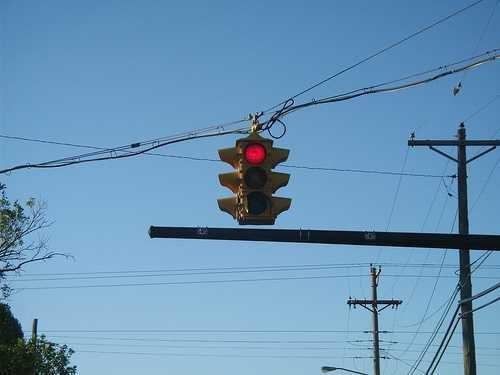red: (236, 133, 272, 223), (236, 139, 270, 168)
